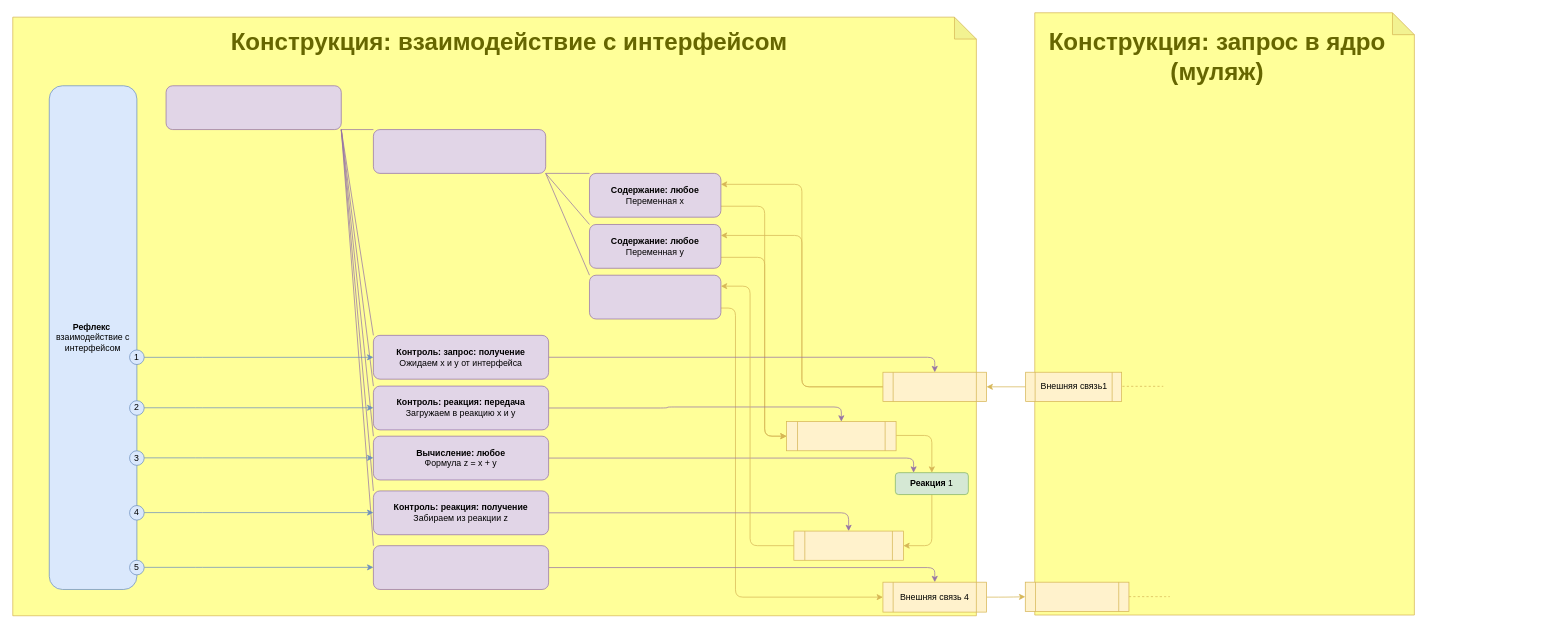
The diagram is 1559 pixels wide and 629 high, and some of its shapes have lost their labels. Here are the shapes that lost their labels. From the top down, the centre of each, then its label:
At [253,107]: "Хранение: всего Память".
At [459,151]: "Хранение: всего Переменные для формулы".
At [655,296]: "Содержание: любое Переменная z".
At [934,386]: "Внешняя связь 1".
At [841,436]: "Внутренняя связь 2".
At [848,545]: "Внутренняя связь 3".
At [461,567]: "Контроль: запрос: передача Загружаем z в интерфейс".
At [1077,596]: "Внешняя связь 2".
